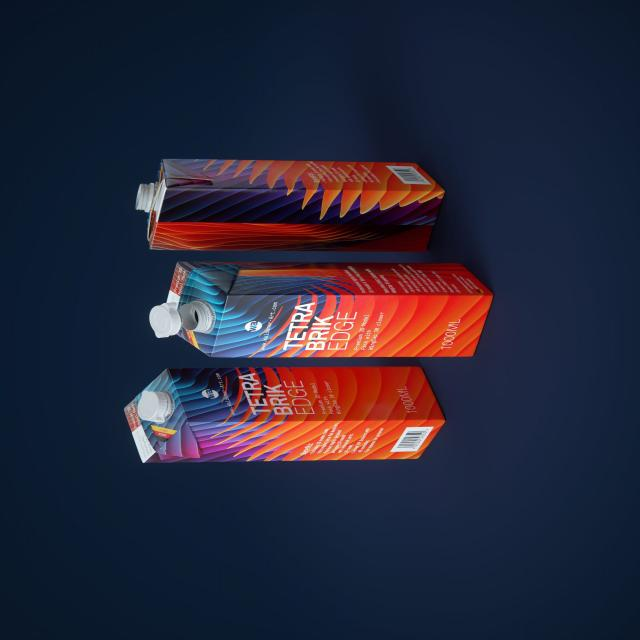non_white_jug: (149, 260, 494, 362), (123, 364, 447, 467), (131, 152, 446, 256)
